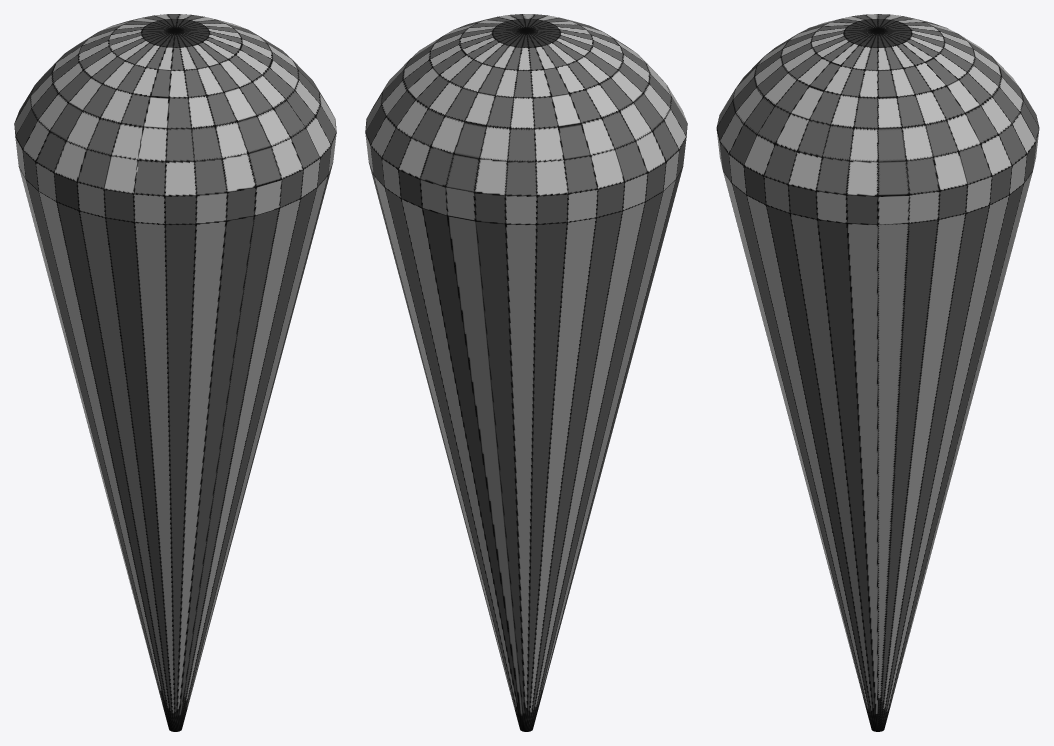
Rendered from switch.glb.
The picture shows the model from 3 angles, left to right: view 1: azimuth 30°, elevation 25°; view 2: azimuth 150°, elevation 25°; view 3: azimuth 270°, elevation 25°; orthographic projection.
Parts seen in each view (by area): view 1: Sphere; view 2: Sphere; view 3: Sphere.
Boxes of the visible parts, bbox=[...] form: Sphere: bbox=[14, 14, 336, 731]; Sphere: bbox=[365, 14, 687, 731]; Sphere: bbox=[716, 14, 1039, 731].
Size of the model in its own units: 1.85 by 4.41 by 1.85.
Materials: 1 (1 with a texture image).
